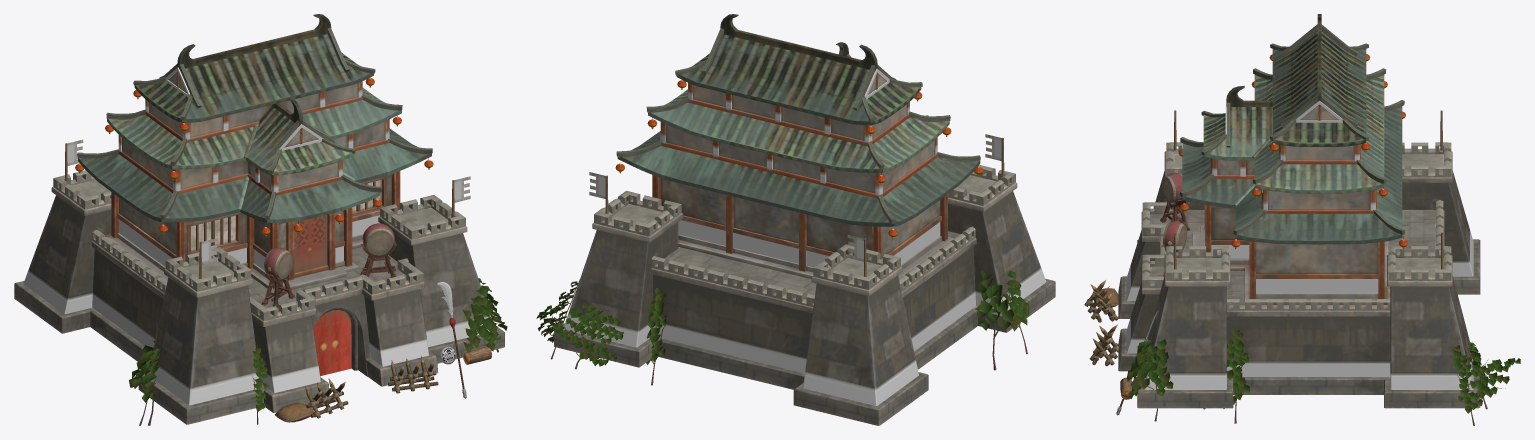
Rendered from 61-baolei.glb.
3 renders of one model, left to right at view 1: azimuth 30°, elevation 25°; view 2: azimuth 150°, elevation 25°; view 3: azimuth 270°, elevation 25°, orthographic. The views are drawn at different scales.
Size of the model in its own units: 10.34 by 9.65 by 11.76.
Materials: 11 (11 with a texture image).
